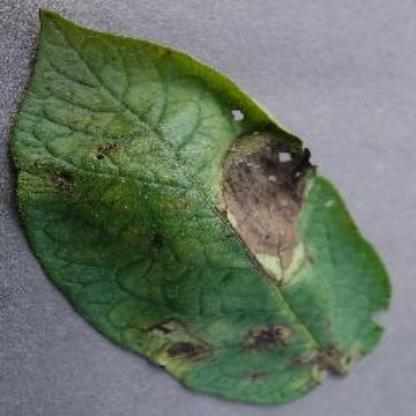Late-Blight: (11, 6, 405, 410)
